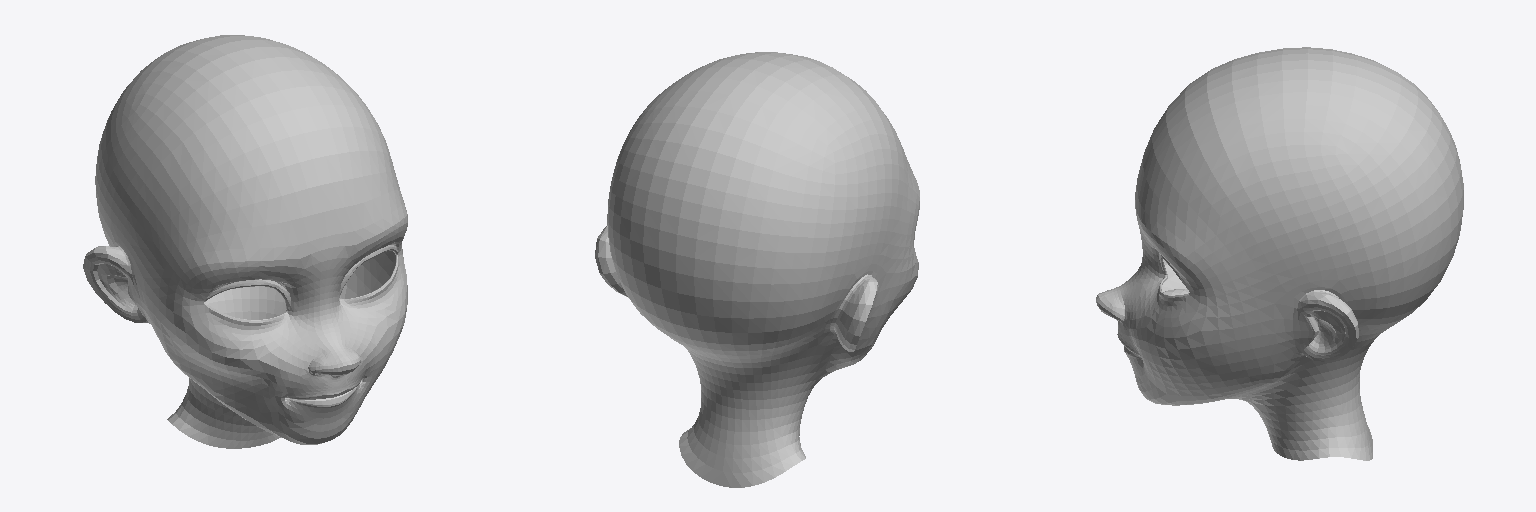
Rendered from Mery_r_suck.obj.
3 views of the same model, side by side, from view 1: azimuth 30°, elevation 25°; view 2: azimuth 150°, elevation 25°; view 3: azimuth 270°, elevation 25° (orthographic).
Size of the model in its own units: 23.75 by 32.31 by 27.53.